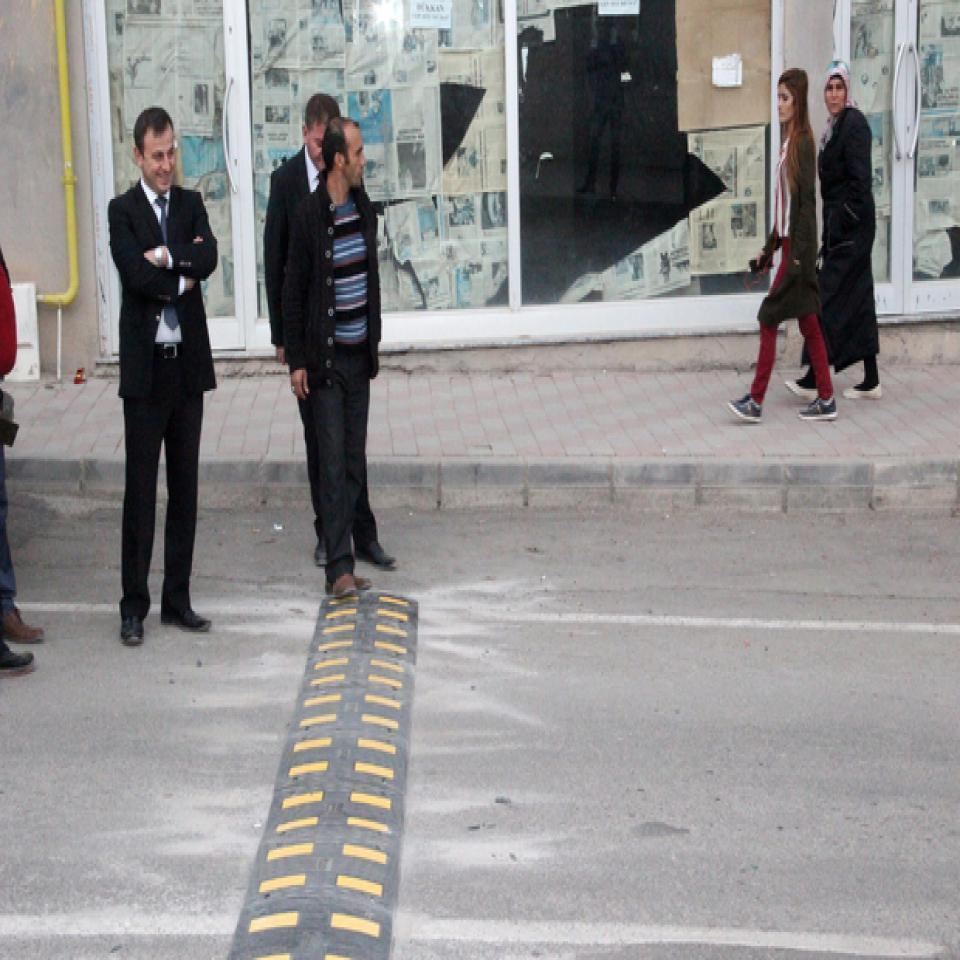speedbreaker: (297, 608, 386, 958)
